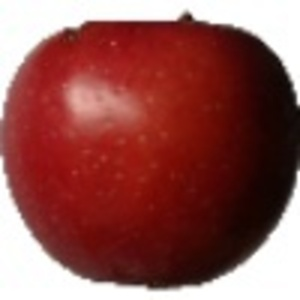maçã braeburn: (1, 9, 297, 288)
